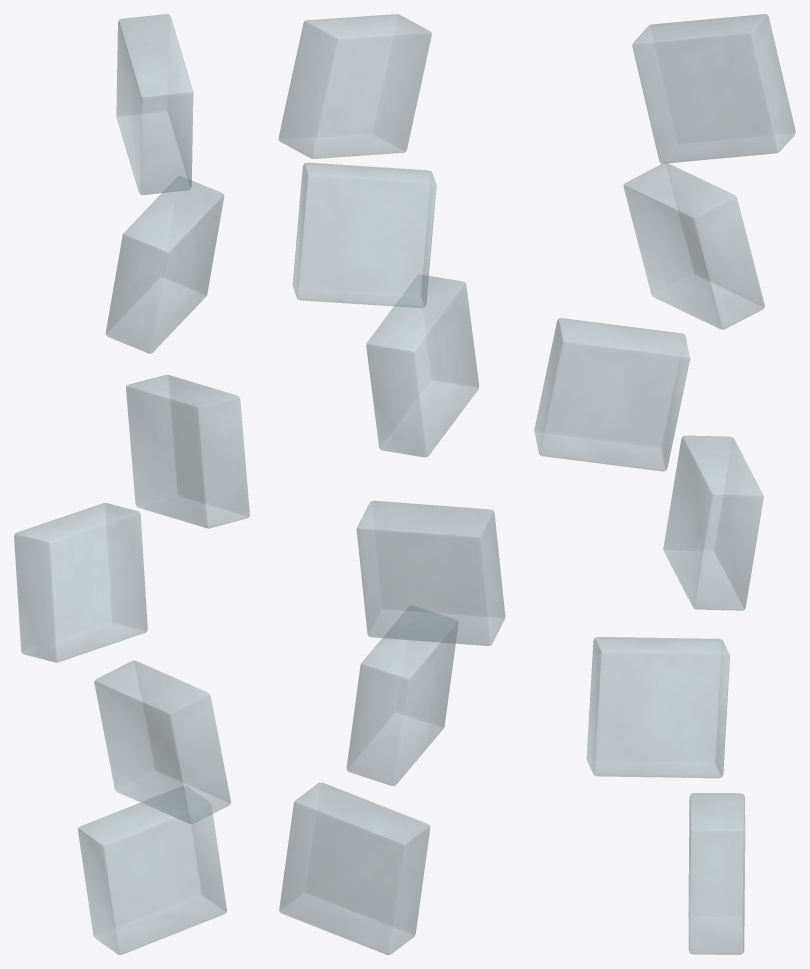
Rendered from ALV-CEL-002_anim.glb.
3 renders of one model, left to right at view 1: azimuth 30°, elevation 25°; view 2: azimuth 150°, elevation 25°; view 3: azimuth 270°, elevation 25°, orthographic. The views are drawn at different scales.
Visible parts, largest first — view 1: ALV-CEL-002_anim0, ALV-CEL-002_anim2, ALV-CEL-002_anim1, ALV-CEL-002_anim3, ALV-CEL-002_anim4, ALV-CEL-002_anim5; view 2: ALV-CEL-002_anim0, ALV-CEL-002_anim2, ALV-CEL-002_anim4, ALV-CEL-002_anim5, ALV-CEL-002_anim3, ALV-CEL-002_anim1; view 3: ALV-CEL-002_anim5, ALV-CEL-002_anim3, ALV-CEL-002_anim1, ALV-CEL-002_anim4, ALV-CEL-002_anim2, ALV-CEL-002_anim0.
Boxes of the visible parts, x1,y1,x2,y2 form: ALV-CEL-002_anim0: (78, 786, 226, 954); ALV-CEL-002_anim2: (14, 503, 147, 662); ALV-CEL-002_anim1: (94, 660, 230, 823); ALV-CEL-002_anim3: (126, 374, 249, 528); ALV-CEL-002_anim4: (105, 176, 224, 353); ALV-CEL-002_anim5: (116, 14, 193, 194); ALV-CEL-002_anim0: (279, 782, 430, 954); ALV-CEL-002_anim2: (356, 500, 505, 645); ALV-CEL-002_anim4: (292, 162, 436, 308); ALV-CEL-002_anim5: (278, 14, 431, 158); ALV-CEL-002_anim3: (366, 275, 478, 457); ALV-CEL-002_anim1: (346, 606, 457, 785); ALV-CEL-002_anim5: (632, 14, 795, 163); ALV-CEL-002_anim3: (534, 318, 689, 471); ALV-CEL-002_anim1: (586, 637, 729, 778); ALV-CEL-002_anim4: (623, 163, 764, 329); ALV-CEL-002_anim2: (663, 435, 763, 610); ALV-CEL-002_anim0: (688, 793, 745, 954).
Bounding box in the file's own units: 0.3336 × 1.47 × 0.3771.
1 material, 1 textured.
